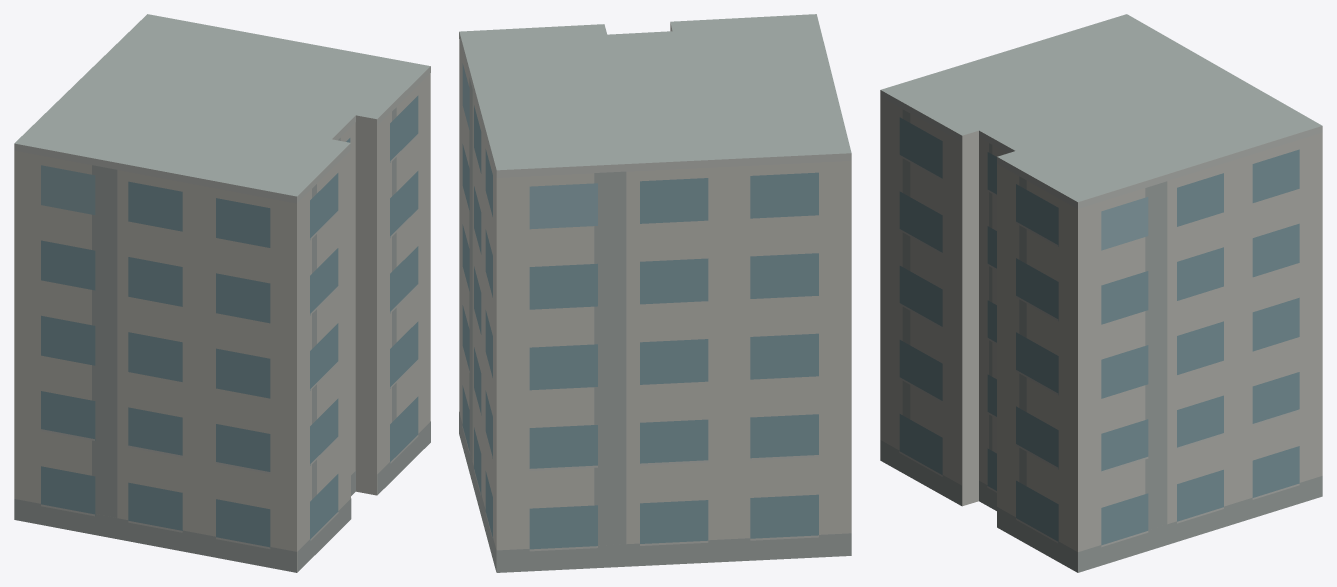
Rendered from survey-upis-32528368.glb.
The picture shows the model from 3 angles, left to right: view 1: azimuth 30°, elevation 25°; view 2: azimuth 150°, elevation 25°; view 3: azimuth 270°, elevation 25°; orthographic projection. The views are drawn at different scales.
Visible parts, largest first — view 1: survey-upis-32528368.tmp; view 2: survey-upis-32528368.tmp; view 3: survey-upis-32528368.tmp.
Part boxes in pixels (x1,y1,x2,y2): survey-upis-32528368.tmp: (14, 14, 430, 572); survey-upis-32528368.tmp: (459, 14, 851, 572); survey-upis-32528368.tmp: (880, 14, 1322, 572).
Bounding box in the file's own units: 14.28 × 13.1 × 14.17.
